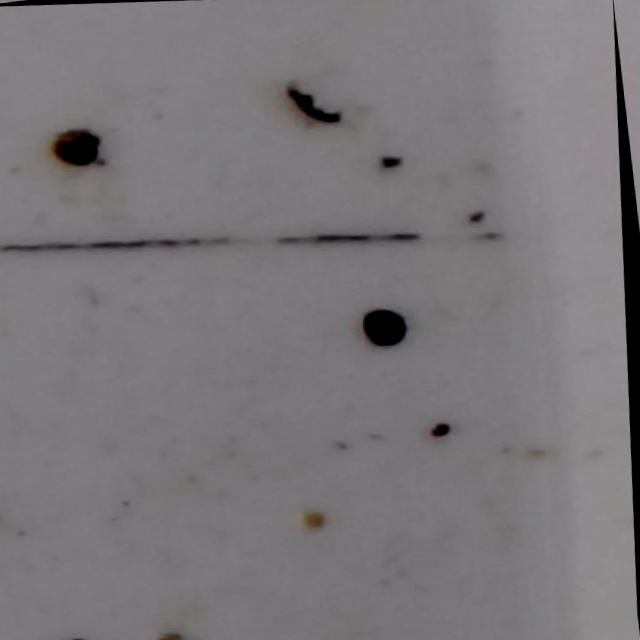varroa: (360, 300, 418, 349), (49, 125, 104, 169)
